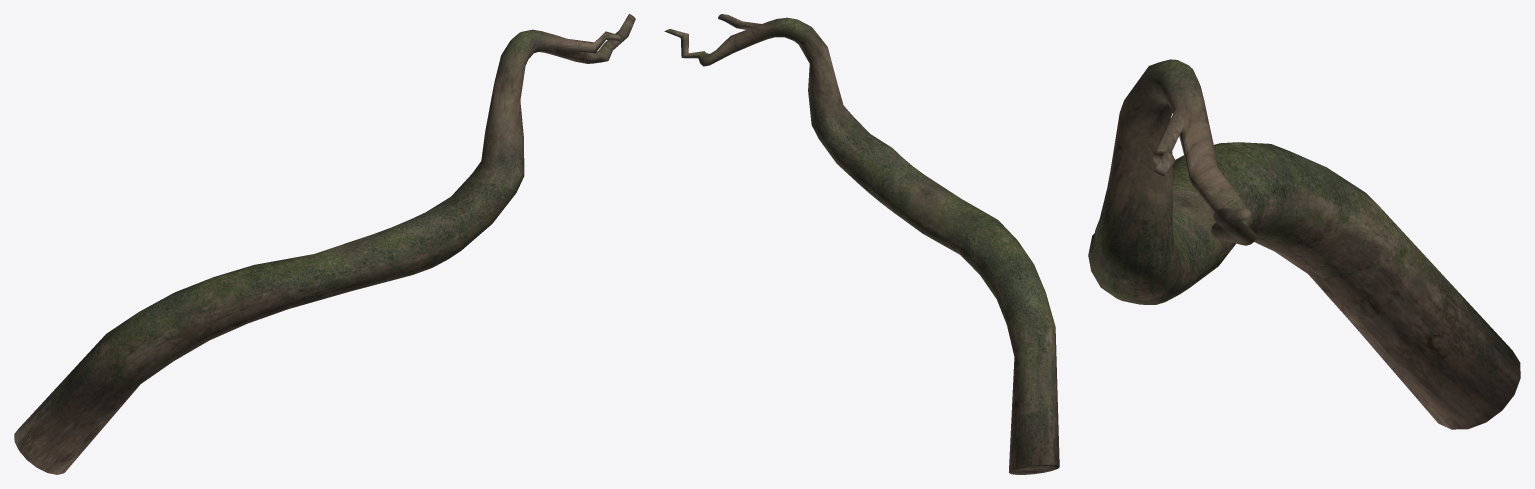
File: SM_TwistedBranch.fbx
3 renders of one model, left to right at view 1: azimuth 30°, elevation 25°; view 2: azimuth 150°, elevation 25°; view 3: azimuth 270°, elevation 25°, orthographic. The views are drawn at different scales.
Visible parts, largest first — view 1: SM_TwistedBranch_LOD0; view 2: SM_TwistedBranch_LOD0; view 3: SM_TwistedBranch_LOD0.
Part boxes in pixels (left/top/right/bottom): SM_TwistedBranch_LOD0: left=14, top=14, right=635, bottom=474; SM_TwistedBranch_LOD0: left=664, top=14, right=1059, bottom=474; SM_TwistedBranch_LOD0: left=1088, top=59, right=1520, bottom=429.
Size of the model in its own units: 356 by 149 by 252.
